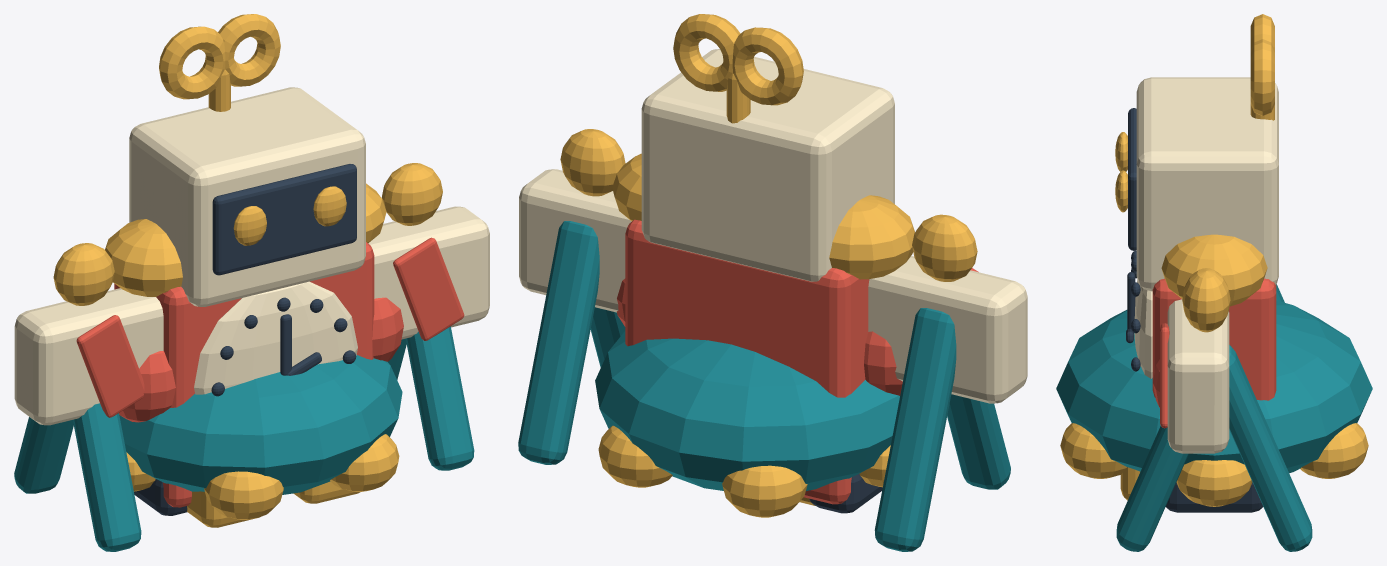
The model's file is board-tokens.glb.
3 renders of one model, left to right at view 1: azimuth 30°, elevation 25°; view 2: azimuth 150°, elevation 25°; view 3: azimuth 270°, elevation 25°, orthographic. The views are drawn at different scales.
Parts seen in each view (by area): view 1: token_robot, token_barrier, token_mine, token_timer; view 2: token_barrier, token_robot, token_mine, token_timer; view 3: token_mine, token_robot, token_barrier, token_timer.
Part boxes in pixels (x1,y1,x2,y2): token_robot: (119, 14, 403, 527); token_barrier: (14, 163, 489, 551); token_mine: (119, 355, 402, 519); token_timer: (105, 183, 386, 515); token_barrier: (518, 129, 1027, 551); token_robot: (617, 14, 902, 505); token_mine: (595, 331, 899, 517); token_timer: (612, 153, 914, 513); token_mine: (1056, 300, 1372, 506); token_robot: (1115, 14, 1278, 500); token_barrier: (1116, 268, 1312, 551); token_timer: (1126, 234, 1276, 512).
Bounding box in the file's own units: 1.94 × 1.8 × 1.18.
